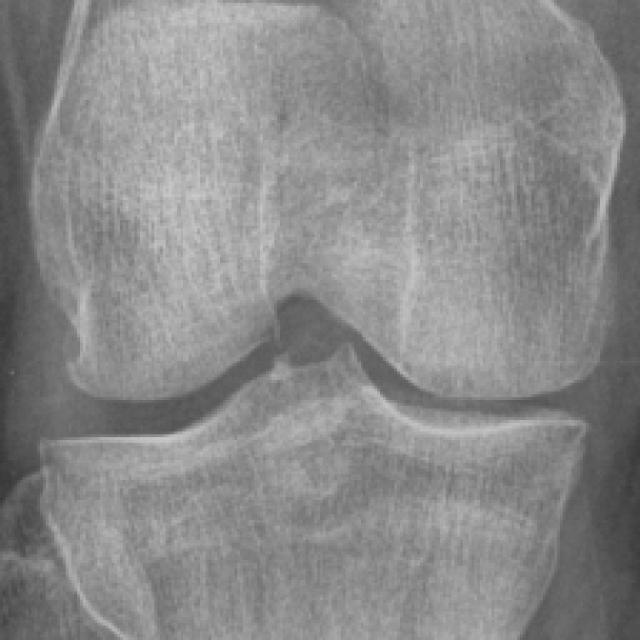femur: (26, 1, 628, 402)
tibia: (46, 346, 580, 637)
